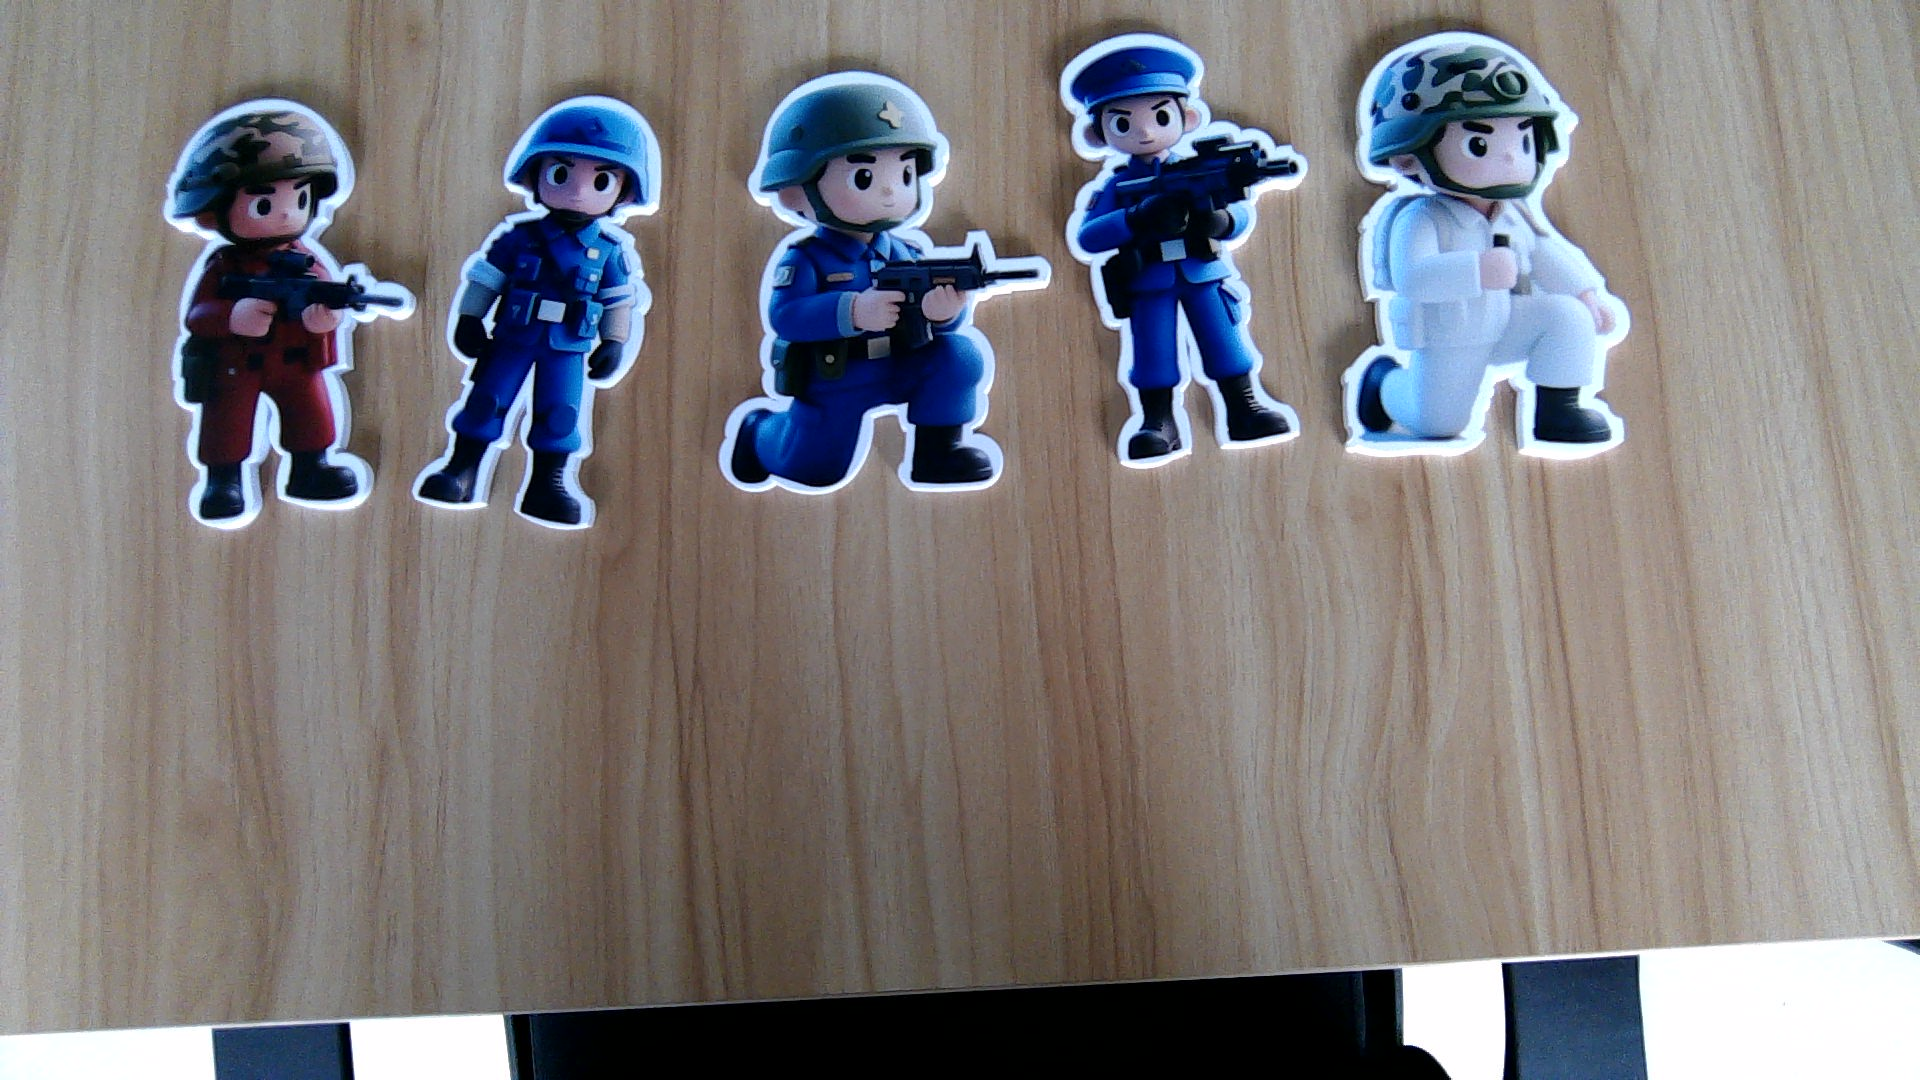人质: (1335, 195, 1636, 468)
敌人1: (167, 243, 377, 525)
敌人2: (716, 237, 1043, 495), (1058, 156, 1309, 468), (410, 219, 653, 537)
